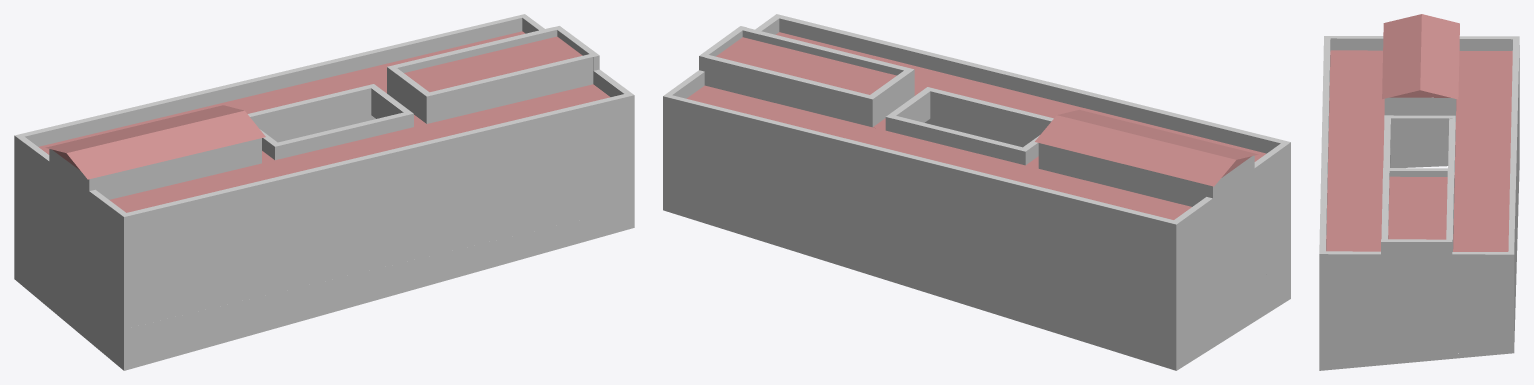
File: LOD_Block_1_41.glb
The picture shows the model from 3 angles, left to right: view 1: azimuth 30°, elevation 25°; view 2: azimuth 150°, elevation 25°; view 3: azimuth 270°, elevation 25°; orthographic projection. The views are drawn at different scales.
Visible parts, largest first — view 1: mesh_CityEngineMaterial_556; view 2: mesh_CityEngineMaterial_556; view 3: mesh_CityEngineMaterial_556.
Boxes of the visible parts, box(x1,y1,x2,y2) form: mesh_CityEngineMaterial_556: box(14, 14, 634, 370); mesh_CityEngineMaterial_556: box(663, 14, 1290, 370); mesh_CityEngineMaterial_556: box(1319, 14, 1519, 370).
Size of the model in its own units: 39.7 by 13.18 by 15.3.
